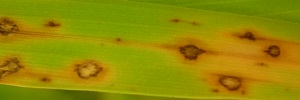RiceBlast: (170, 15, 291, 97), (2, 48, 113, 86), (1, 13, 71, 38)
